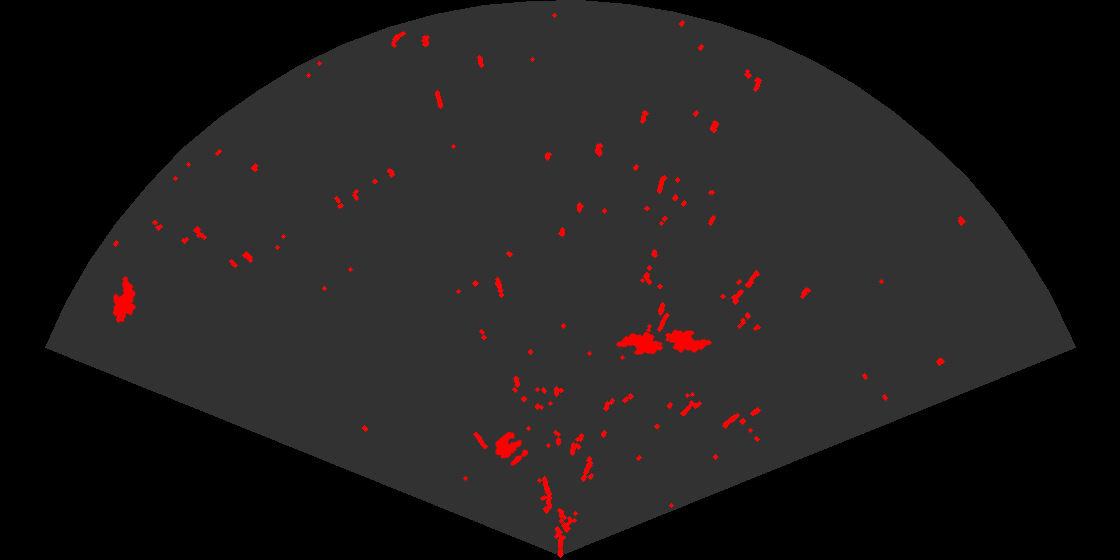AUV: (111, 274, 137, 325), (614, 330, 665, 356), (663, 328, 714, 354)
ball: (494, 430, 530, 467)
